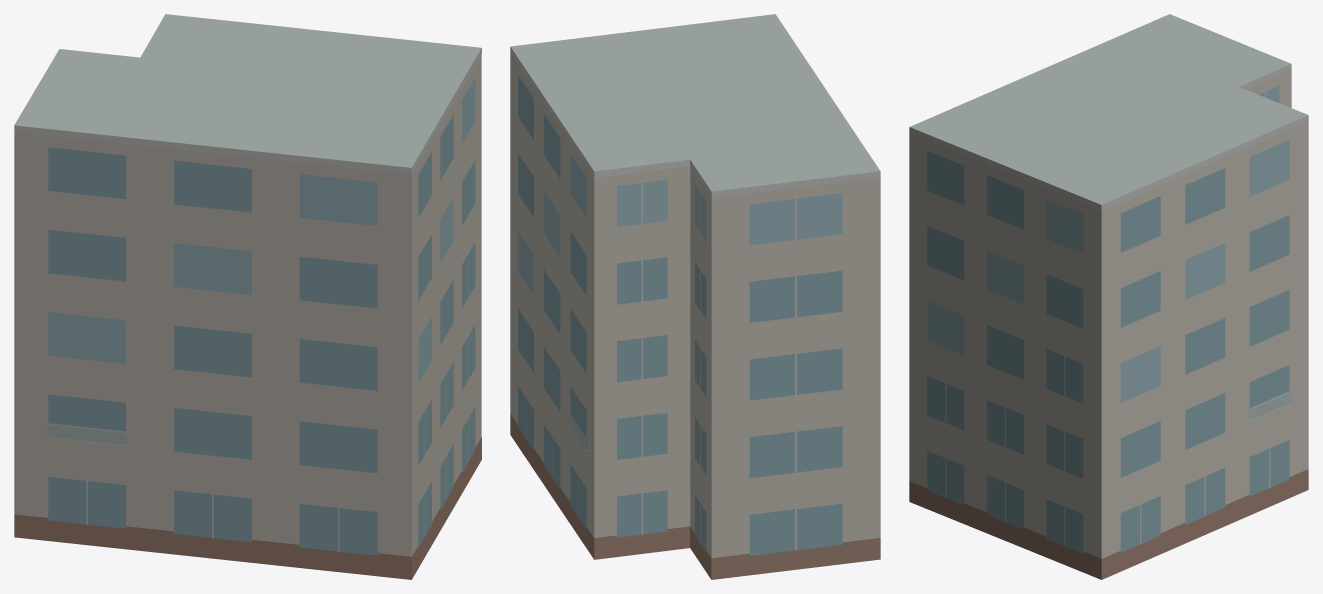
File: survey-upis-32752300.glb
The picture shows the model from 3 angles, left to right: view 1: azimuth 30°, elevation 25°; view 2: azimuth 150°, elevation 25°; view 3: azimuth 270°, elevation 25°; orthographic projection. The views are drawn at different scales.
Visible parts, largest first — view 1: survey-upis-32752300.tmp; view 2: survey-upis-32752300.tmp; view 3: survey-upis-32752300.tmp.
Part boxes in pixels (x1,y1,x2,y2): survey-upis-32752300.tmp: (14,14,481,579); survey-upis-32752300.tmp: (510,14,880,579); survey-upis-32752300.tmp: (909,14,1308,579).
Bounding box in the file's own units: 16.67 × 15.25 × 14.72.
